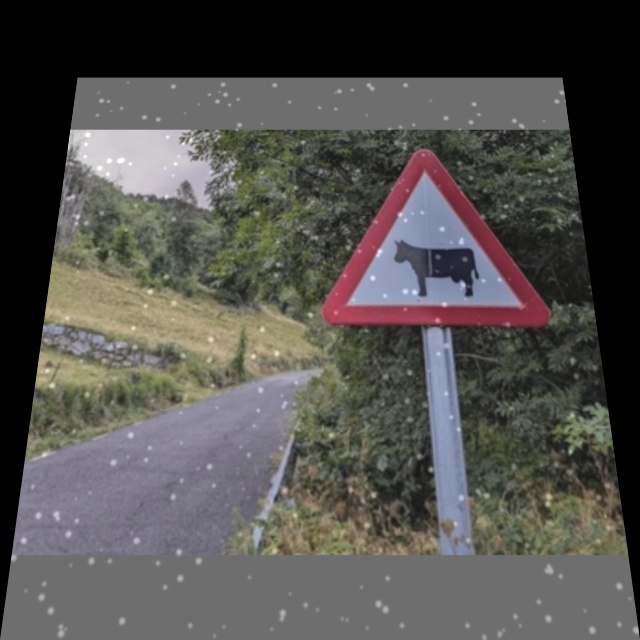Cattle: (336, 147, 545, 333)
